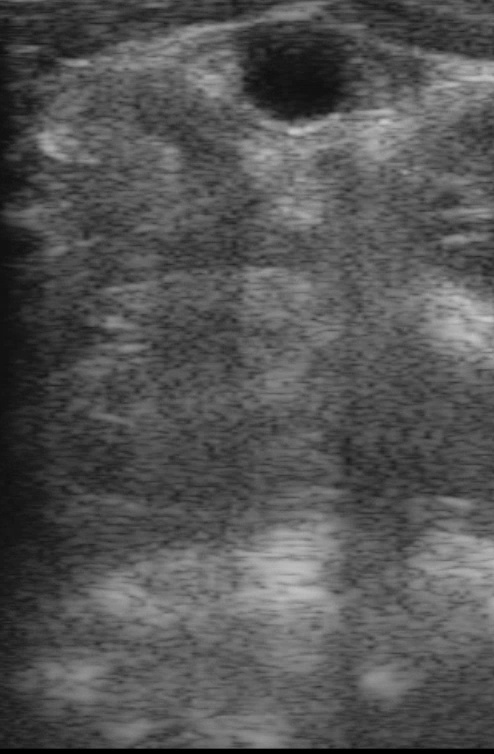veins_detect: (232, 23, 363, 129)
veins_seg: (243, 23, 352, 119)
